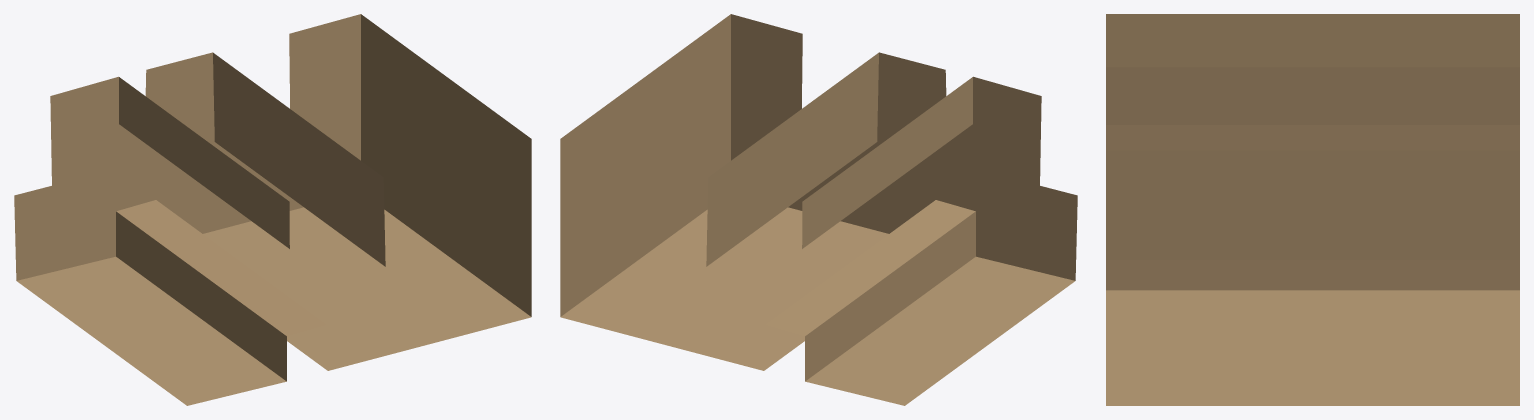
3 views of the same model, side by side, from view 1: azimuth 30°, elevation 25°; view 2: azimuth 150°, elevation 25°; view 3: azimuth 270°, elevation 25° (orthographic). The views are drawn at different scales.
Visible parts, largest first — view 1: 0_0_1_2_0_0_1_3_1; view 2: 0_0_1_2_0_0_1_3_1; view 3: 0_0_1_2_0_0_1_3_1.
Boxes of the visible parts, x1,y1,x2,y2 form: 0_0_1_2_0_0_1_3_1: (14, 14, 531, 405); 0_0_1_2_0_0_1_3_1: (560, 14, 1077, 405); 0_0_1_2_0_0_1_3_1: (1106, 14, 1519, 405).
Size of the model in its own units: 31.65 by 15.95 by 27.
